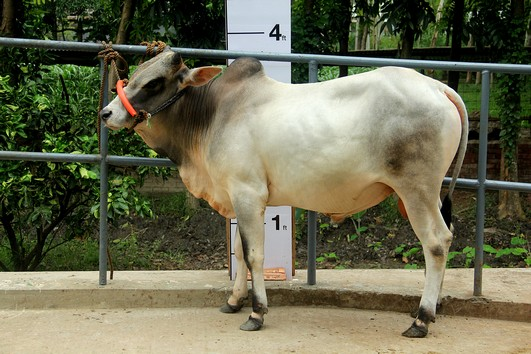cow: (95, 46, 480, 341)
